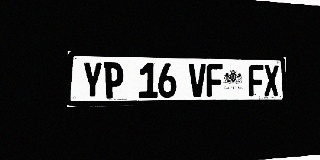1: (139, 63, 157, 98)
6: (158, 63, 176, 98)
F: (206, 64, 223, 97), (248, 64, 264, 96)
P: (103, 62, 123, 99)
V: (189, 63, 206, 97)
X: (264, 65, 279, 96)
Y: (82, 62, 103, 99)
